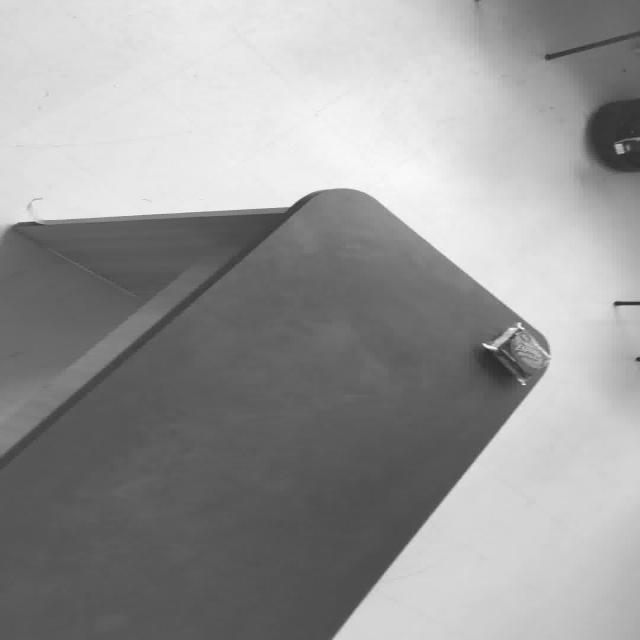sponge: (1, 187, 552, 638), (480, 321, 550, 385)
